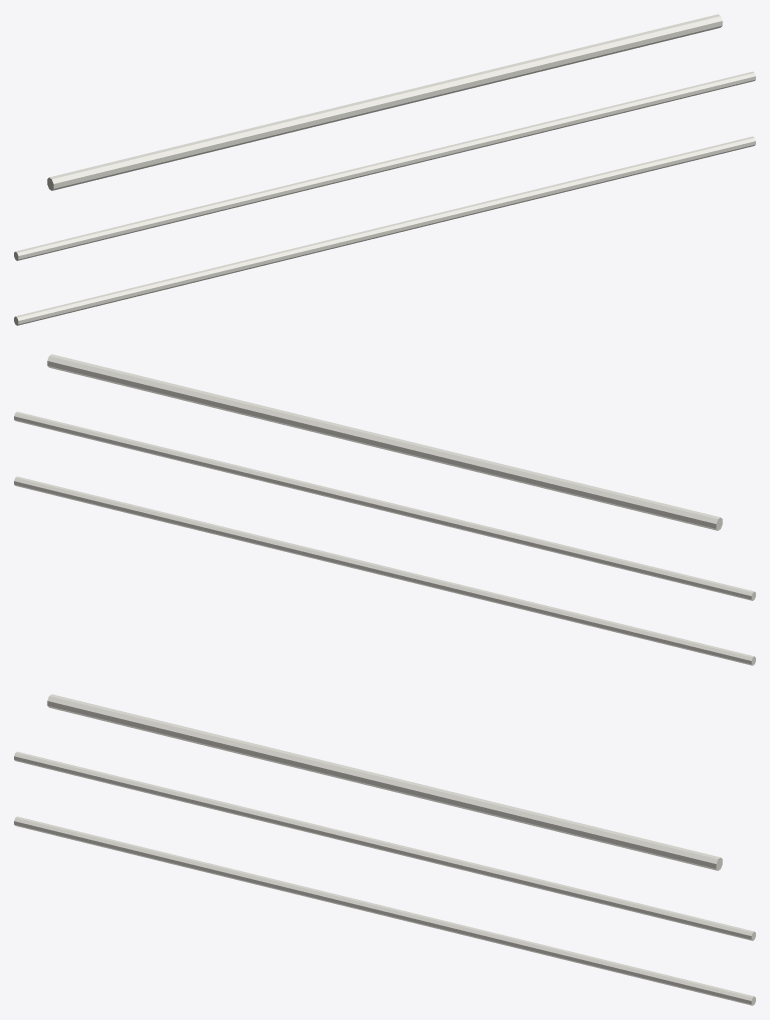
Rendered from SM_Street_GuardPipe_White_300_01.gltf.
3 views of the same model, one above another, from view 1: azimuth 30°, elevation 25°; view 2: azimuth 150°, elevation 25°; view 3: azimuth 330°, elevation 25° (orthographic).
Visible parts, largest first — view 1: SM_Street_GuardPipe_White_300_01; view 2: SM_Street_GuardPipe_White_300_01; view 3: SM_Street_GuardPipe_White_300_01.
Boxes of the visible parts, <box> form: SM_Street_GuardPipe_White_300_01: <box>14,14,755,325</box>; SM_Street_GuardPipe_White_300_01: <box>14,354,755,665</box>; SM_Street_GuardPipe_White_300_01: <box>14,694,755,1005</box>.
Bounding box in the file's own units: 2.98 × 0.5339 × 0.0449.
1 material, 1 textured.
